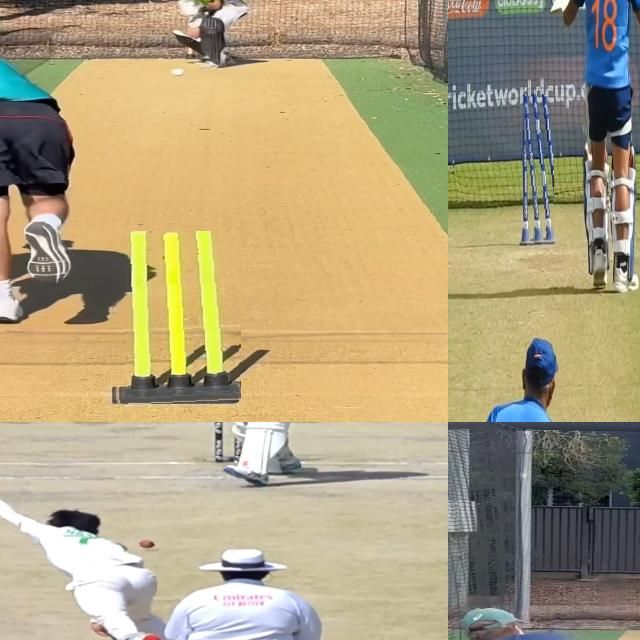Cricket ball: (137, 538, 157, 550), (169, 67, 186, 77)
Stumps: (109, 231, 241, 405), (520, 90, 554, 247)
